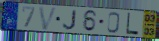0: (107, 12, 121, 34)
6: (81, 9, 98, 33)
7: (21, 6, 36, 29)
J: (62, 9, 77, 31)
L: (125, 12, 140, 36)
V: (37, 6, 59, 31)
